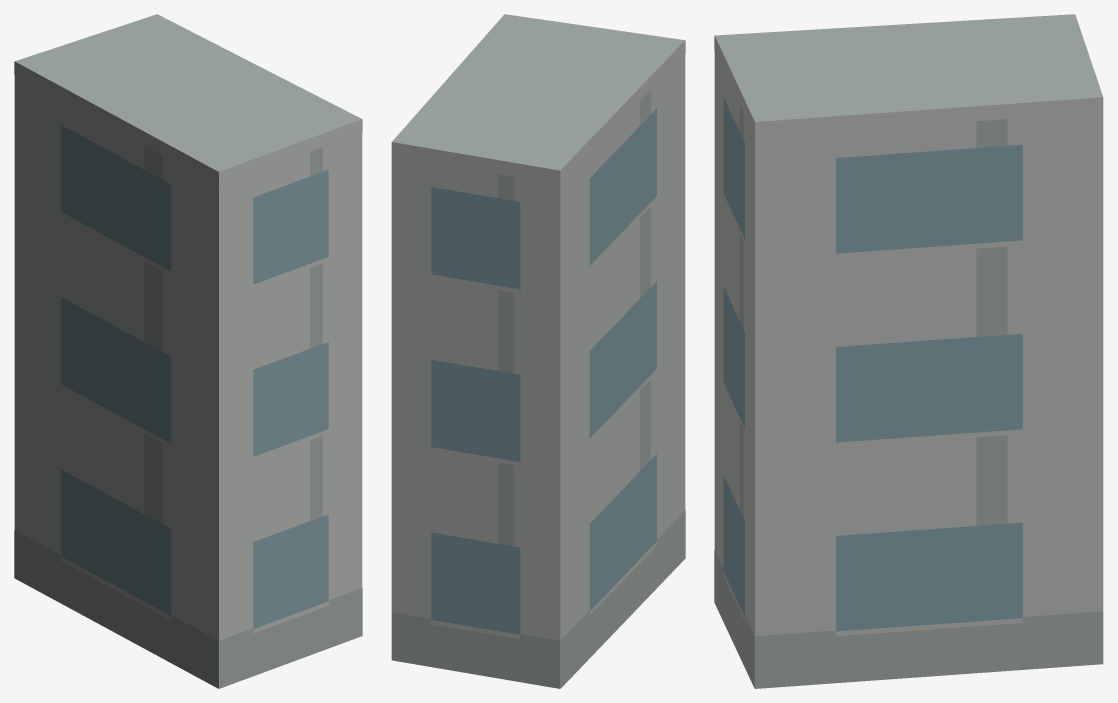
Rendered from survey-upis-33008978.glb.
3 renders of one model, left to right at view 1: azimuth 30°, elevation 25°; view 2: azimuth 150°, elevation 25°; view 3: azimuth 270°, elevation 25°, orthographic. The views are drawn at different scales.
Parts seen in each view (by area): view 1: survey-upis-33008978.tmp; view 2: survey-upis-33008978.tmp; view 3: survey-upis-33008978.tmp.
Boxes of the visible parts, x1=… form: survey-upis-33008978.tmp: x1=14, y1=14, x2=362, y2=688; survey-upis-33008978.tmp: x1=391, y1=14, x2=685, y2=688; survey-upis-33008978.tmp: x1=714, y1=14, x2=1103, y2=688.
Bounding box in the file's own units: 3.75 × 9.15 × 5.7.
